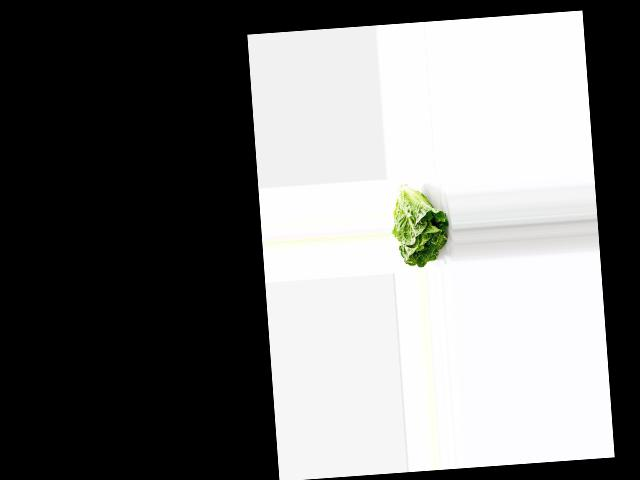lettuce: (388, 182, 452, 268)
